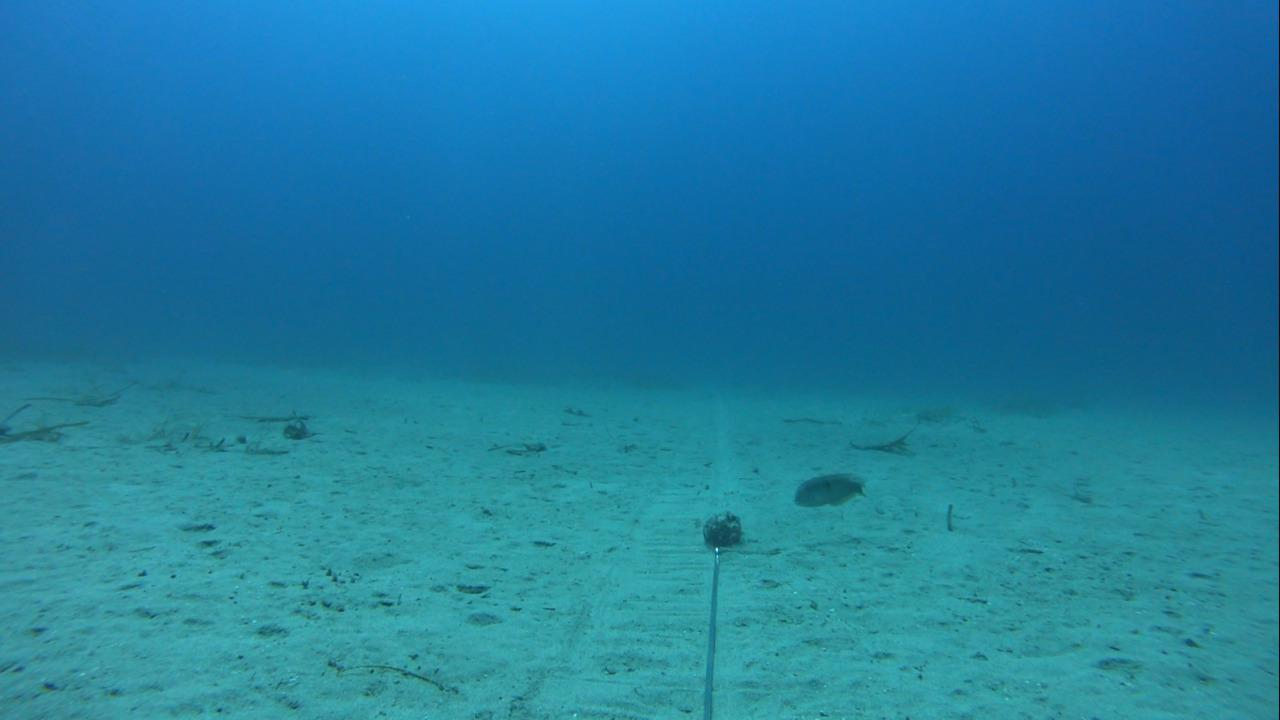raor: (790, 471, 867, 508)
